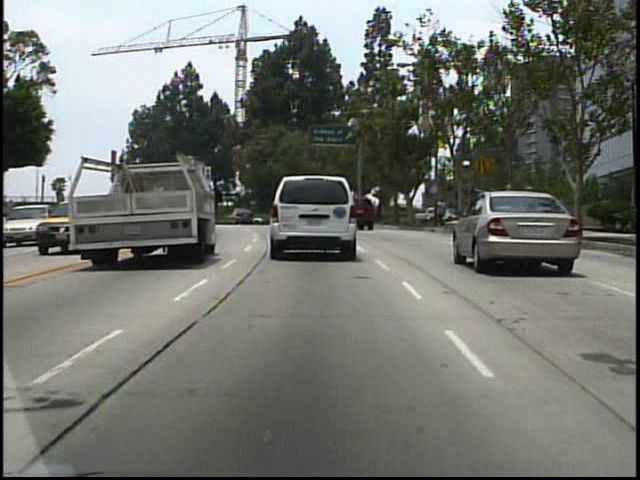person: (434, 195, 450, 233)
